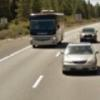buses: (26, 9, 66, 49)
